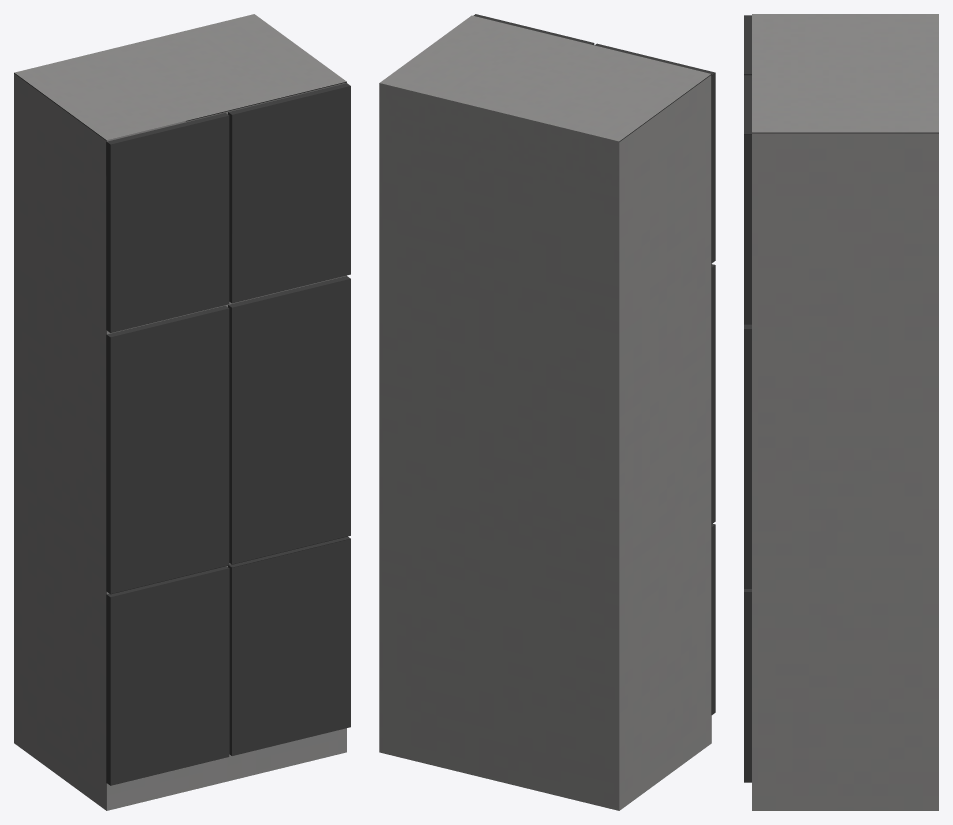
3 renders of one model, left to right at view 1: azimuth 30°, elevation 25°; view 2: azimuth 150°, elevation 25°; view 3: azimuth 270°, elevation 25°, orthographic.
Parts seen in each view (by area): view 1: Skrin_90 v2; view 2: Skrin_90 v2; view 3: Skrin_90 v2.
Boxes of the visible parts, x1=… form: Skrin_90 v2: x1=14, y1=14, x2=350, y2=810; Skrin_90 v2: x1=379, y1=14, x2=715, y2=810; Skrin_90 v2: x1=744, y1=14, x2=938, y2=810.
Bounding box in the file's own units: 0.9 × 0.625 × 2.4.
